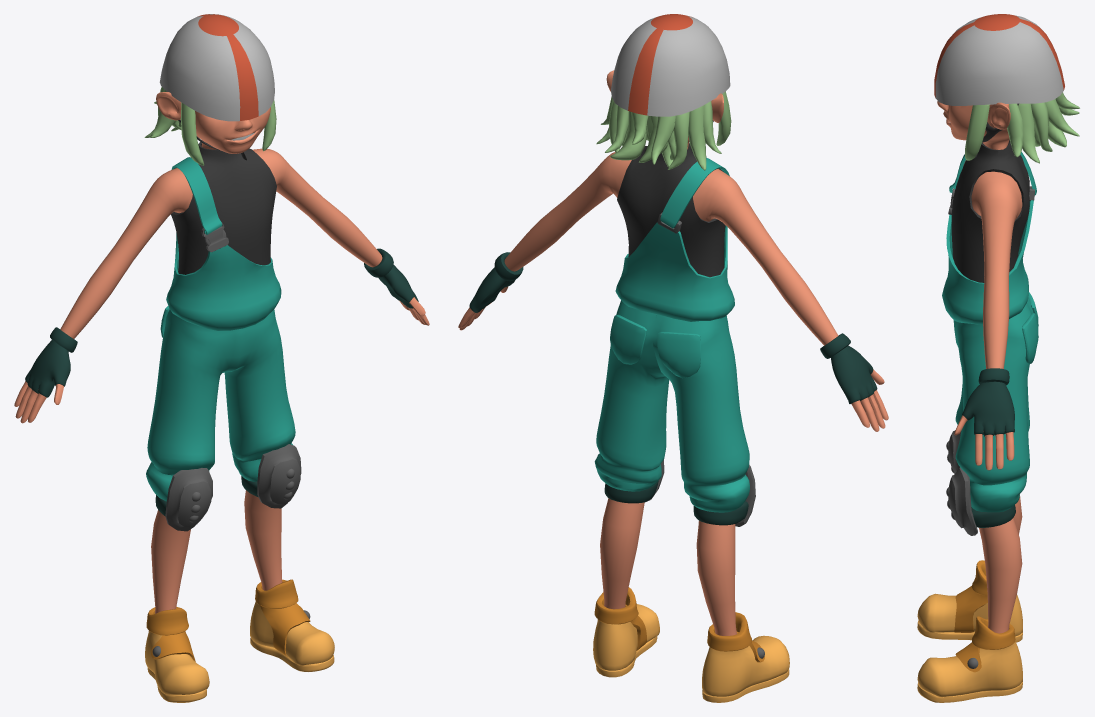
Rendered from Player_01_mesh.fbx.
3 renders of one model, left to right at view 1: azimuth 30°, elevation 25°; view 2: azimuth 150°, elevation 25°; view 3: azimuth 270°, elevation 25°, orthographic. The views are drawn at different scales.
Visible parts, largest first — view 1: metal Clasp, pants.002, Helmet.002, Cube.040, Shirt.001, Shoes.003, Cube.039, Gloves 01.001, Shoes.005, Shoes.004, Cube.025, Gloves 02.001; view 2: pants.002, metal Clasp, Helmet.002, Cube.040, Shoes.003, Shirt.001, pants.003, Gloves 01.001, Shoes.005, Body.002, Cube.029, Cube.027 (+3 smaller); view 3: metal Clasp, Helmet.002, pants.002, Shoes.003, Shirt.001, Cube.040, Gloves 01.001, Cube.039, Shoes.004, Shoes.005, Cube.025, pants.003 (+7 smaller).
Part boxes in pixels (x1,y1,x2,y2): metal Clasp: (14, 92, 429, 613); pants.002: (146, 309, 295, 501); Helmet.002: (159, 14, 274, 121); Cube.040: (166, 157, 281, 330); Shirt.001: (171, 142, 276, 274); Shoes.003: (145, 601, 334, 702); Cube.039: (165, 444, 301, 531); Gloves 01.001: (25, 265, 418, 397); Shoes.005: (146, 579, 298, 635); Shoes.004: (151, 603, 310, 661); Cube.025: (180, 100, 276, 165); Gloves 02.001: (50, 248, 393, 352); pants.002: (594, 300, 749, 512); metal Clasp: (458, 70, 888, 635); Helmet.002: (611, 14, 730, 116); Cube.040: (615, 157, 734, 321); Shoes.003: (593, 604, 789, 702); Shirt.001: (617, 143, 725, 277); pants.003: (610, 314, 700, 378); Gloves 01.001: (469, 267, 877, 403); Shoes.005: (594, 587, 751, 651); Body.002: (604, 481, 748, 525); Cube.029: (605, 105, 675, 164); Cube.027: (609, 101, 689, 169); metal Clasp: (937, 101, 1022, 633); Helmet.002: (934, 14, 1064, 105); pants.002: (953, 298, 1033, 512); Shoes.003: (917, 593, 1022, 702); Shirt.001: (951, 139, 1029, 282); Cube.040: (942, 152, 1036, 324); Gloves 01.001: (962, 381, 1014, 436); Cube.039: (948, 430, 977, 535); Shoes.004: (954, 586, 987, 672); Shoes.005: (972, 560, 1015, 649); Cube.025: (965, 104, 989, 160); pants.003: (1022, 292, 1038, 364).
Size of the model in its own units: 322 by 485 by 111.
